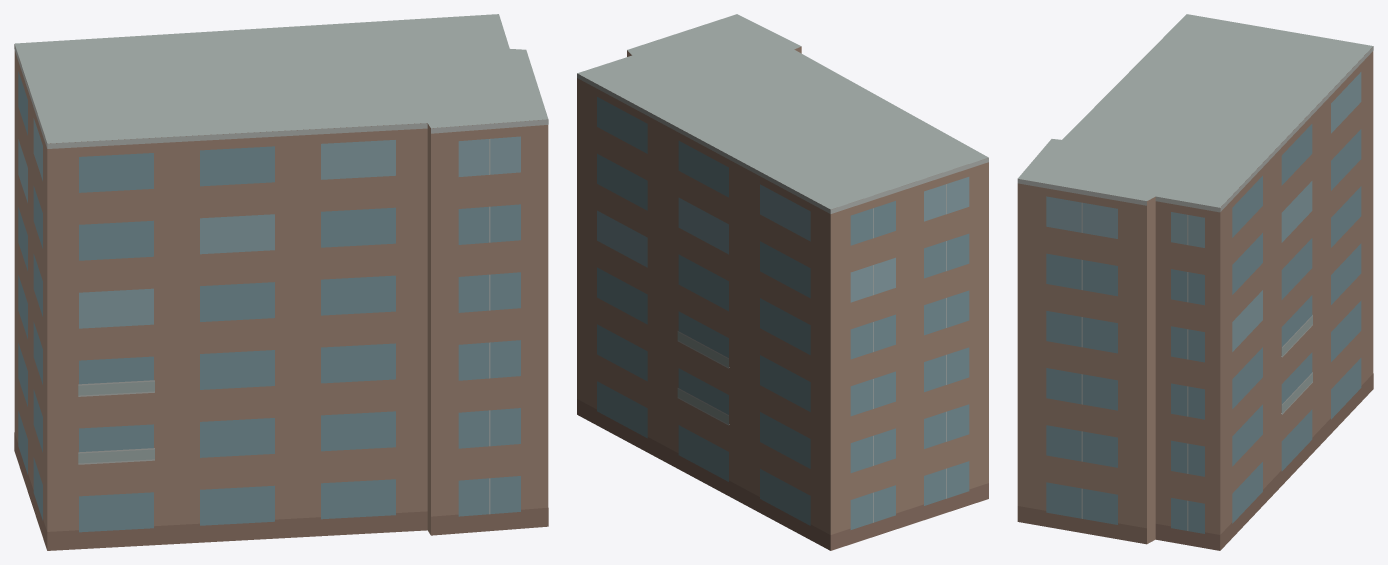
Rendered from survey-upis-32978941.glb.
The picture shows the model from 3 angles, left to right: view 1: azimuth 30°, elevation 25°; view 2: azimuth 150°, elevation 25°; view 3: azimuth 270°, elevation 25°; orthographic projection. The views are drawn at different scales.
Parts seen in each view (by area): view 1: survey-upis-32978941.tmp; view 2: survey-upis-32978941.tmp; view 3: survey-upis-32978941.tmp.
Boxes of the visible parts, box(x1,y1,x2,y2) form: survey-upis-32978941.tmp: box(14, 14, 548, 550); survey-upis-32978941.tmp: box(577, 14, 988, 550); survey-upis-32978941.tmp: box(1017, 14, 1373, 550).
Size of the model in its own units: 21.94 by 18.1 by 17.02.
